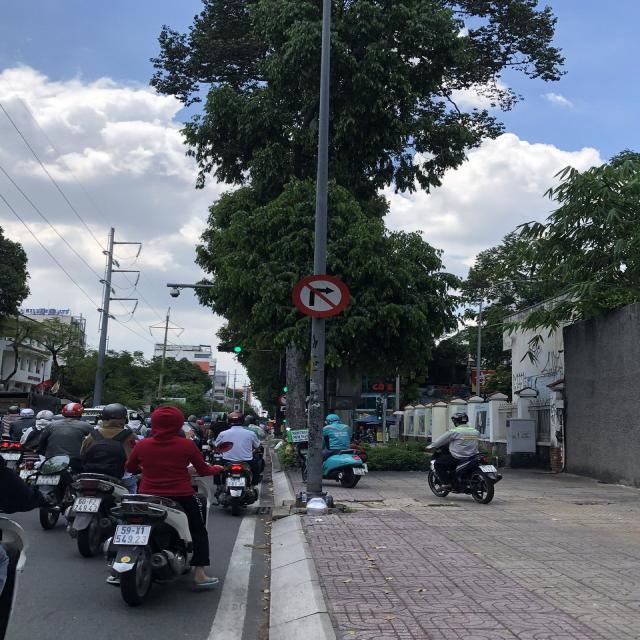Bien bao cam re phai: (291, 269, 354, 317)
